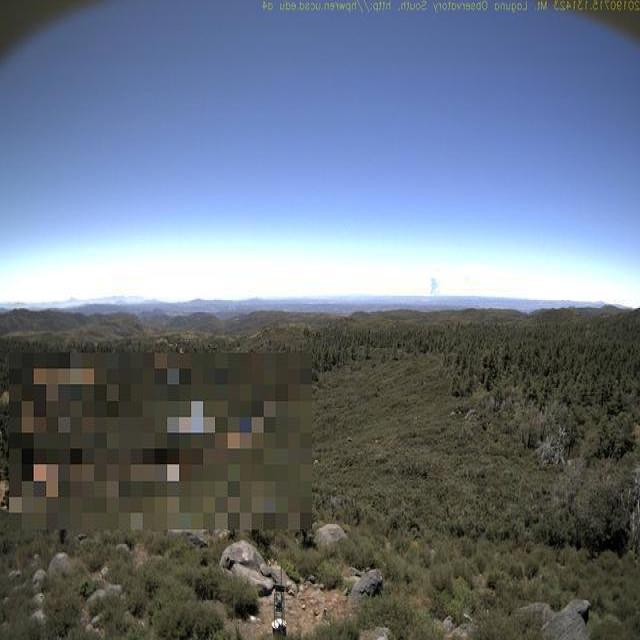Smoke: (424, 273, 445, 300)
